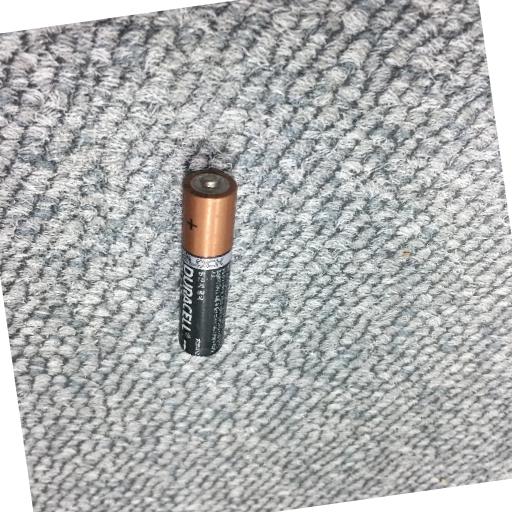Battery_0: (170, 159, 248, 364)
